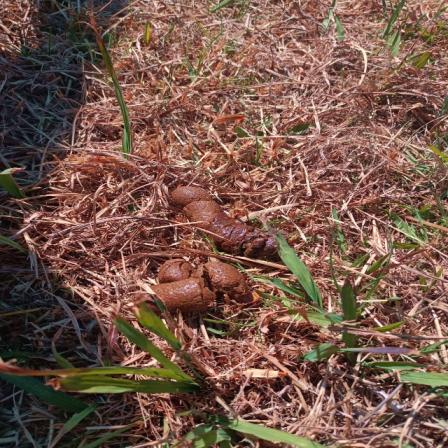dog-poop: (172, 175, 283, 262), (149, 252, 246, 317)
